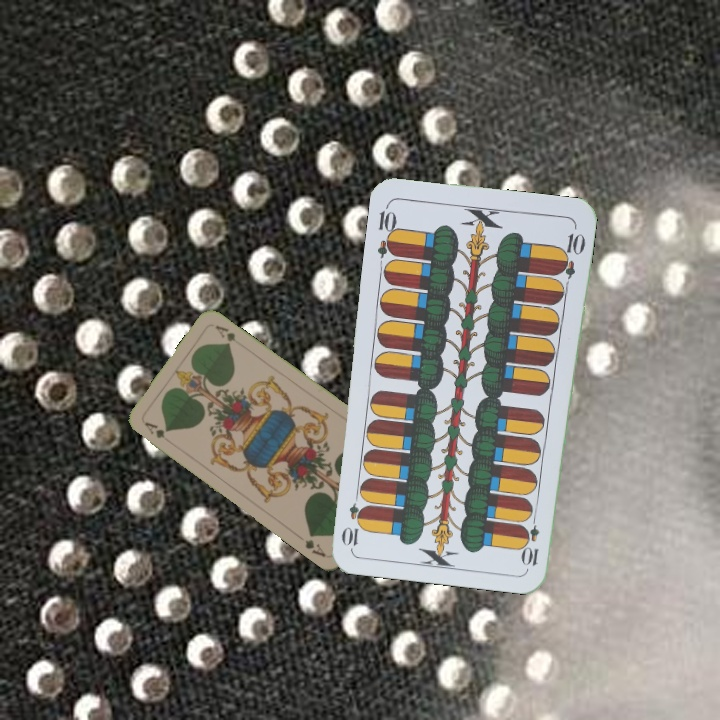E10: (373, 200, 400, 259), (521, 509, 542, 568)
GA: (140, 418, 175, 447)
